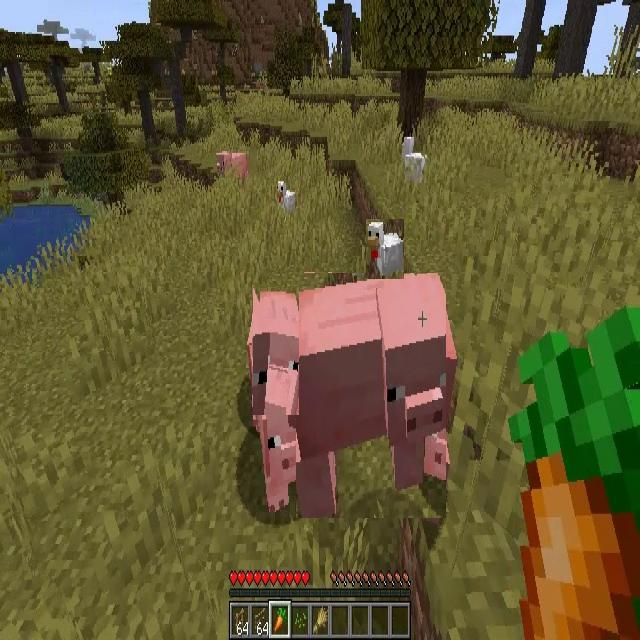duck: (366, 219, 404, 279), (399, 138, 425, 183), (277, 176, 298, 217)
pig: (296, 273, 446, 518), (256, 372, 320, 504), (253, 287, 299, 415), (215, 147, 247, 192)
